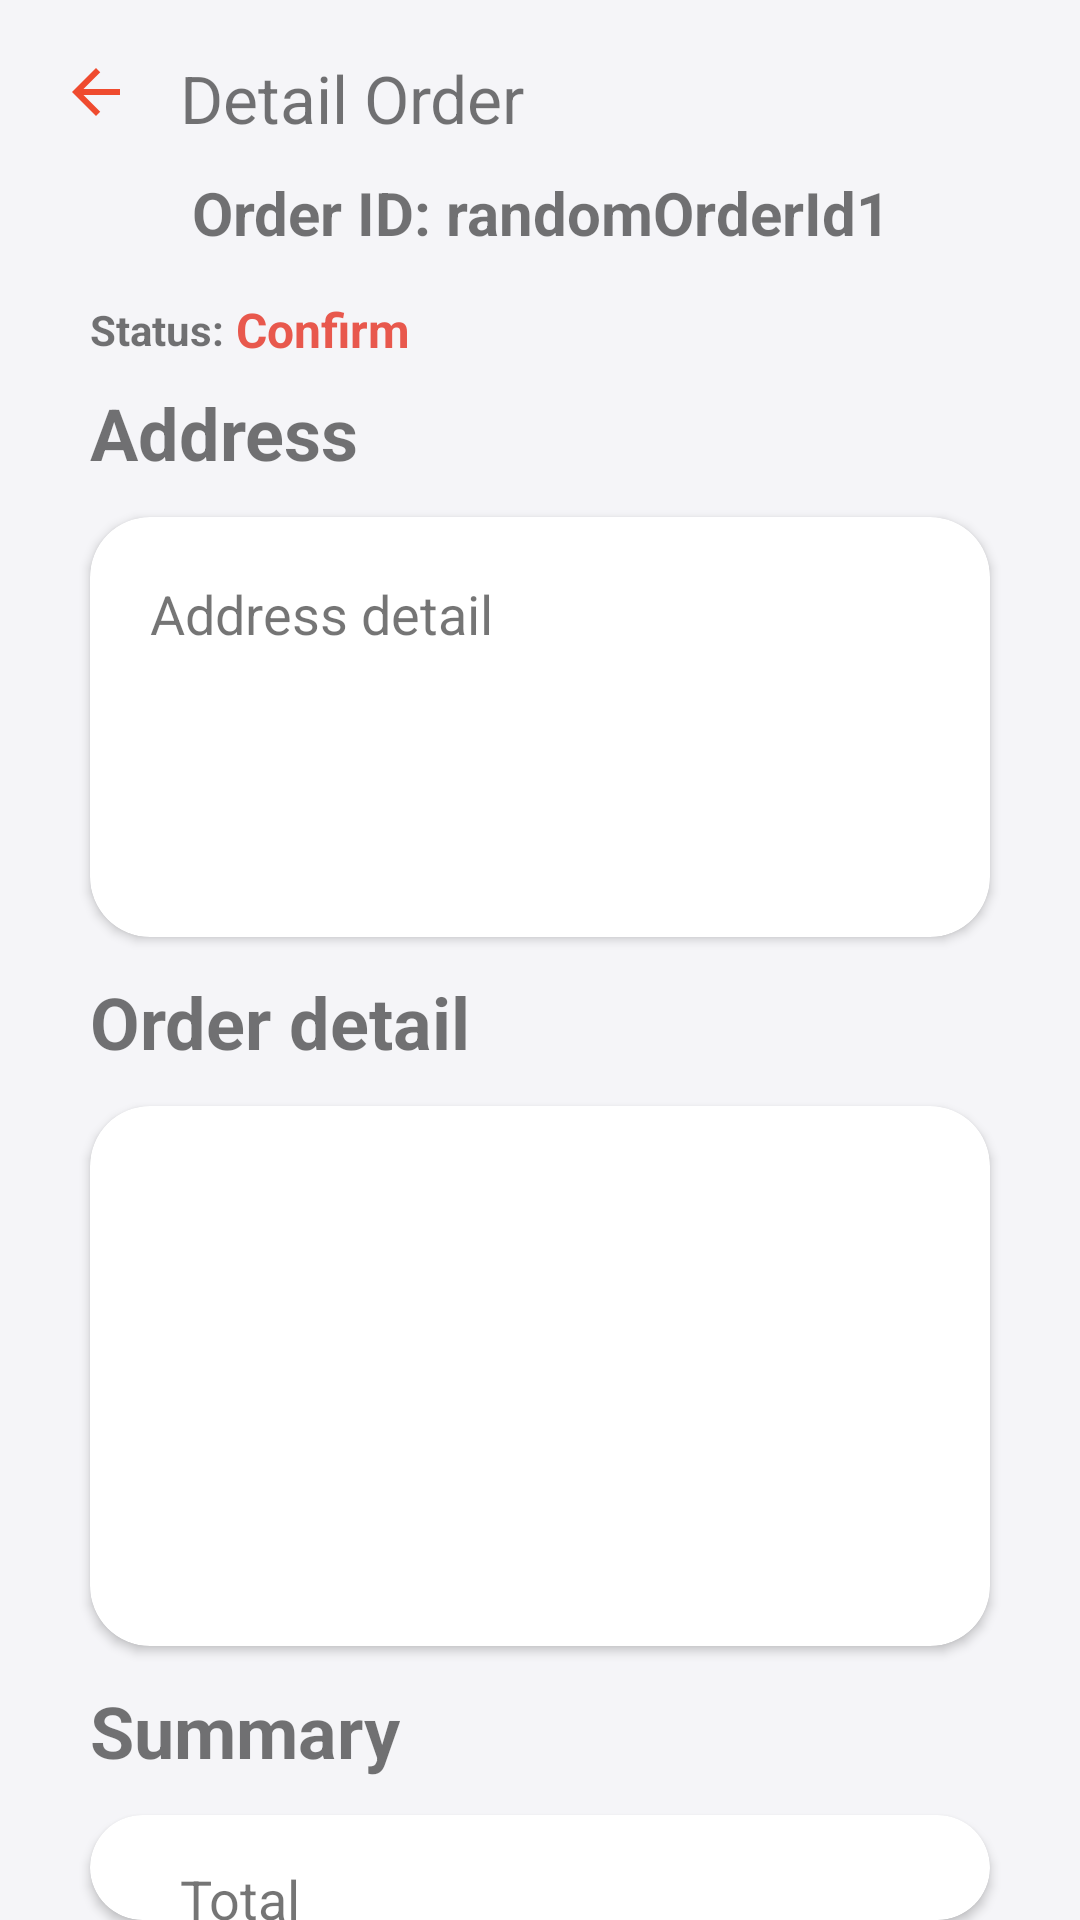

Icon bounding boxes for this 1080*1920 phone screenshot, format (x1, y1, x2, y2):
arrow back: (72, 68, 120, 116)
